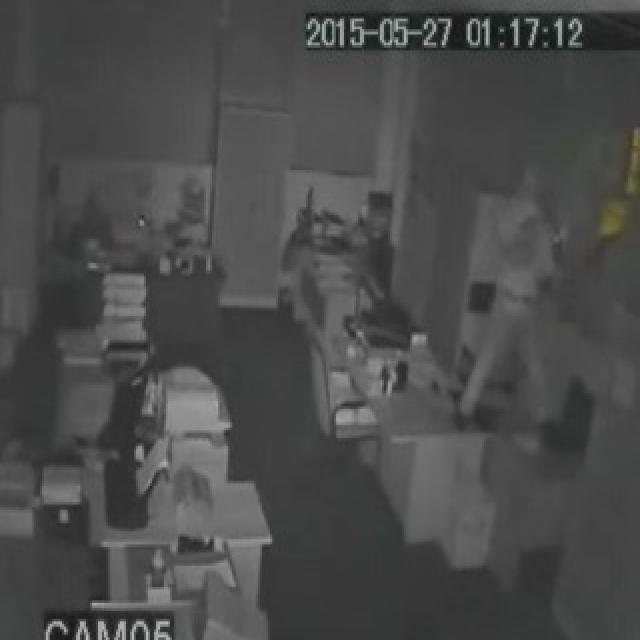thief: (498, 149, 550, 381)
